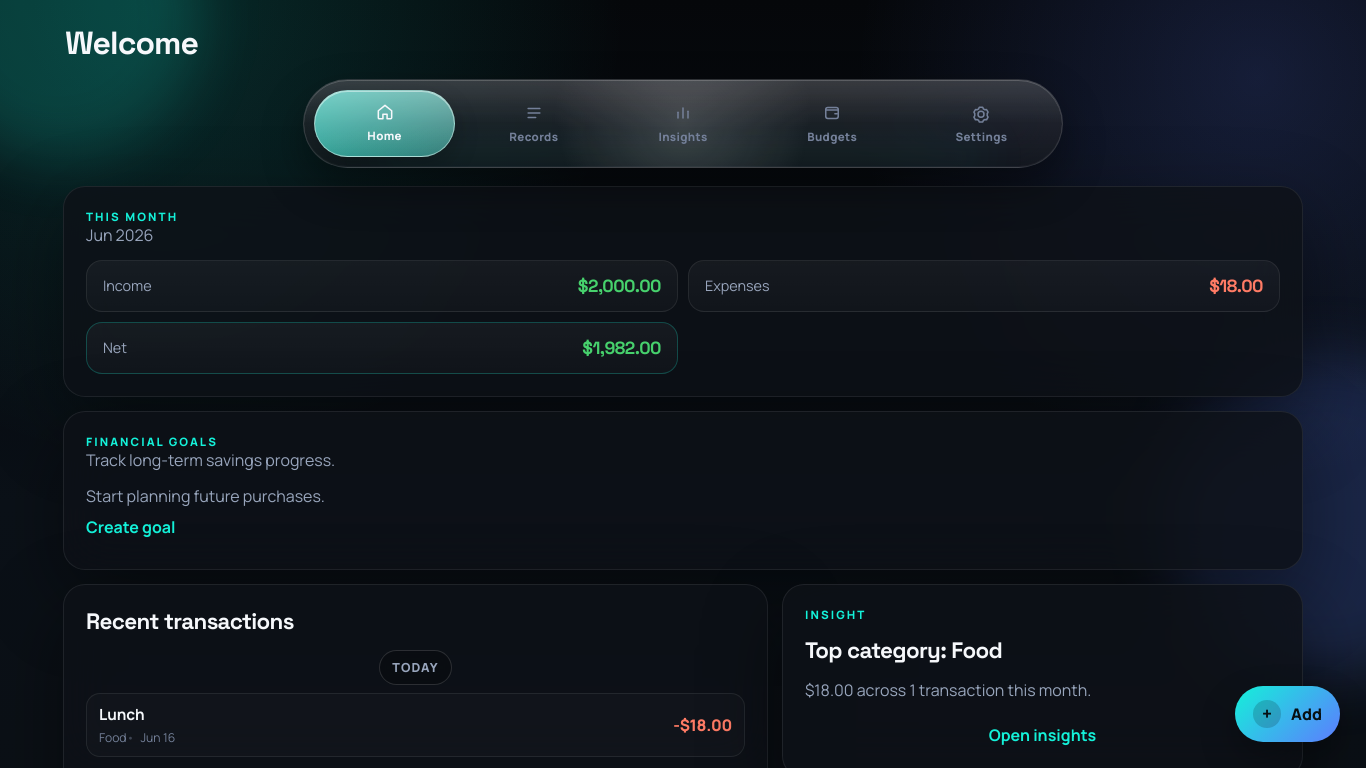
Test case: App UI behavior › filters records by search query and shows empty state for no matches
The image size is (1366, 768).
Click the button "Records" at (534, 123), box [463,90,604,156]
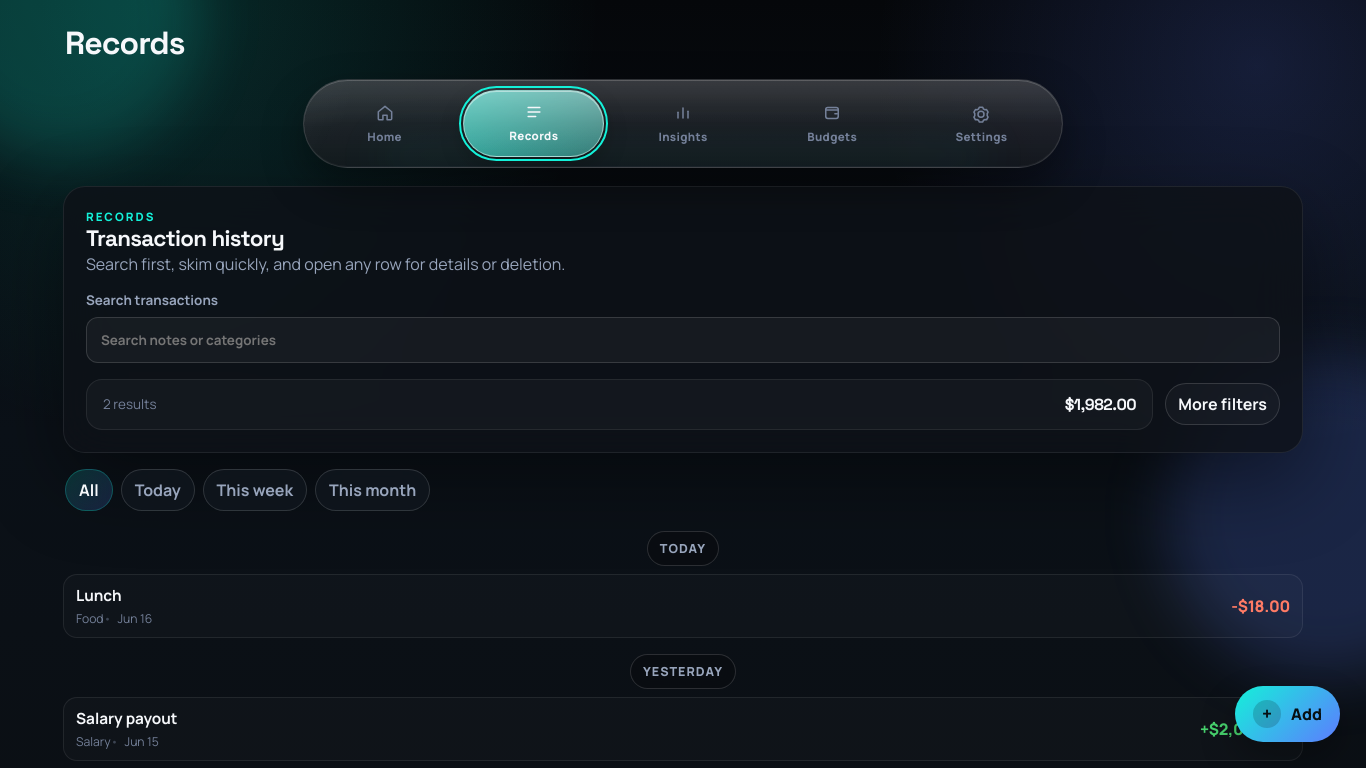
Expected: the heading "Transaction history" is shown, [86,224,284,252]
Type "Lunch" into the search field labelled "Search transactions" at (683, 340), box [86,316,1280,362]
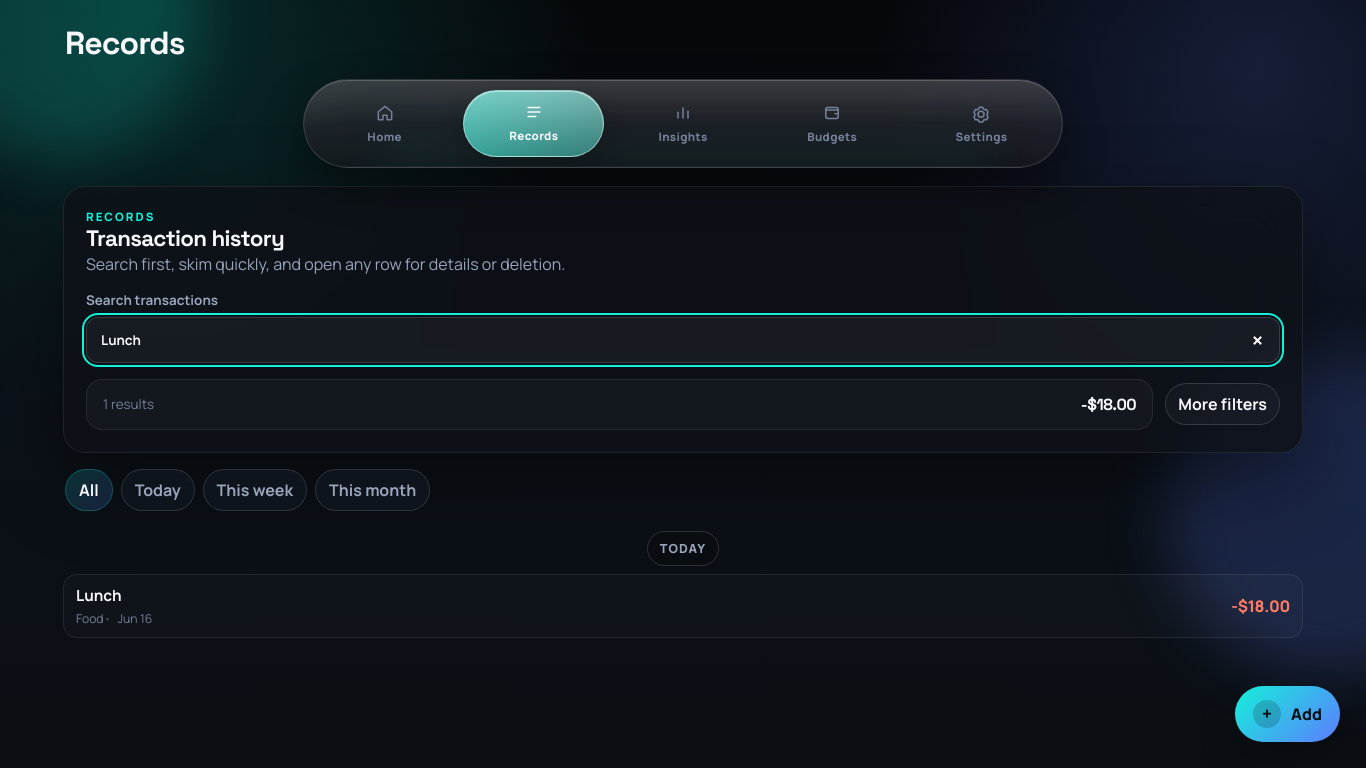
Expected: the text "1 results" is shown, [103,395,154,413]
Expected: the button "Salary payout" is gone
Replace the text in the search field labelled "Search transactions" with "not-found-query" at (683, 340), box [86,316,1280,362]
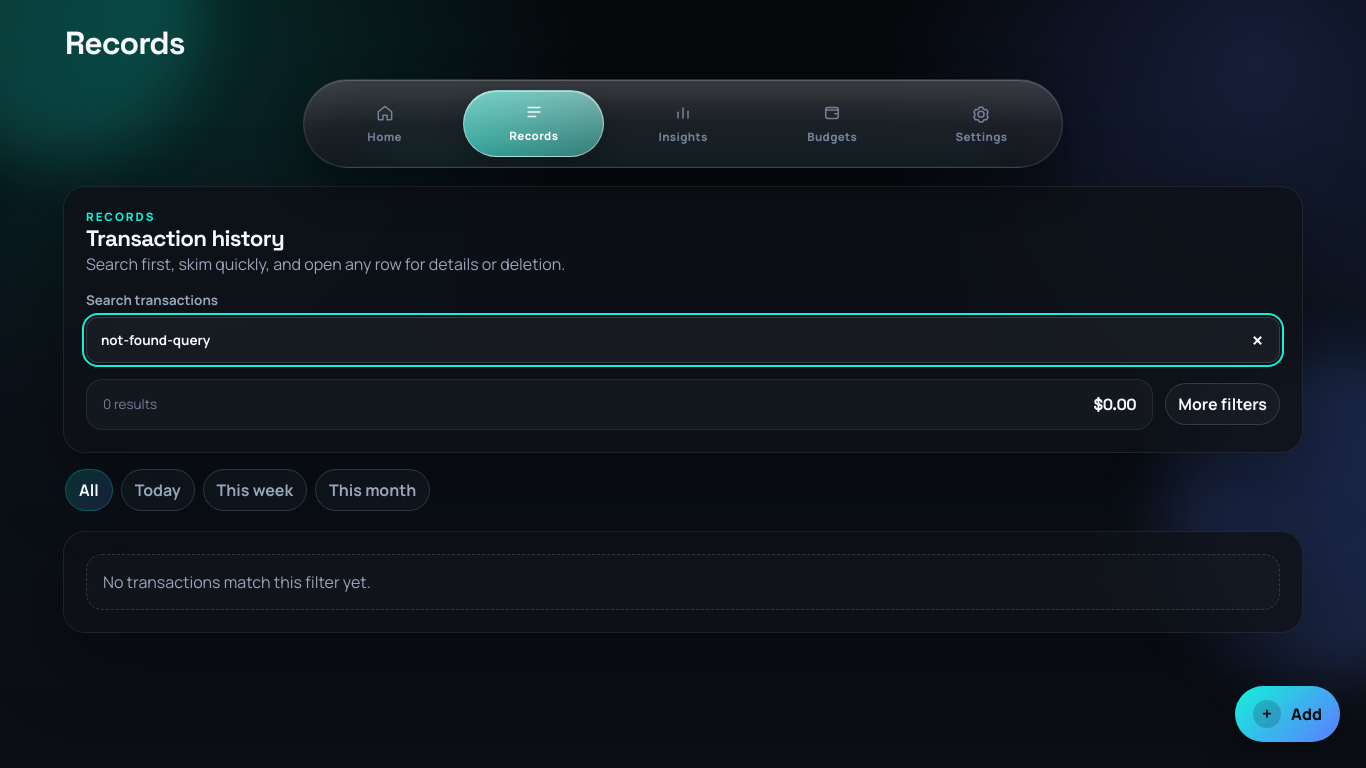
Expected: the text "No transactions match this filter yet." is shown, [86,554,1280,610]
